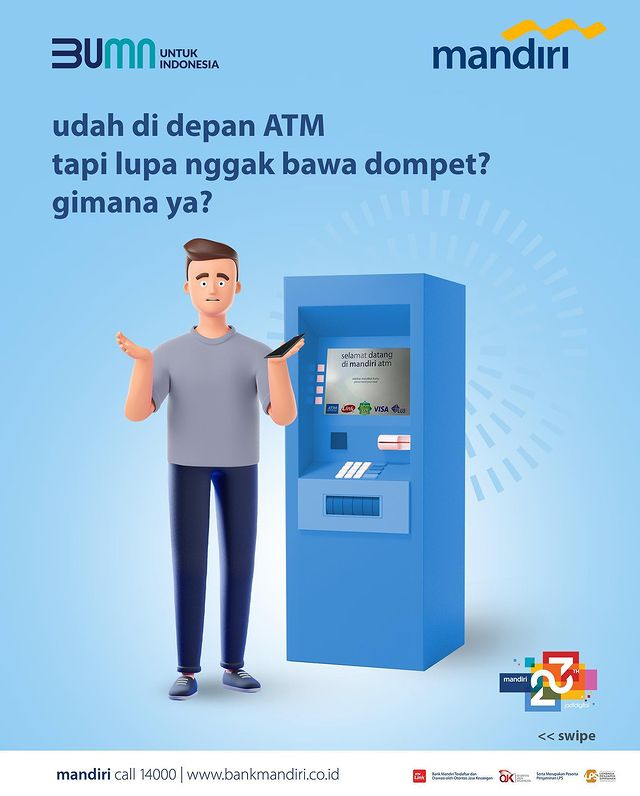ojk: (494, 765, 536, 788)
